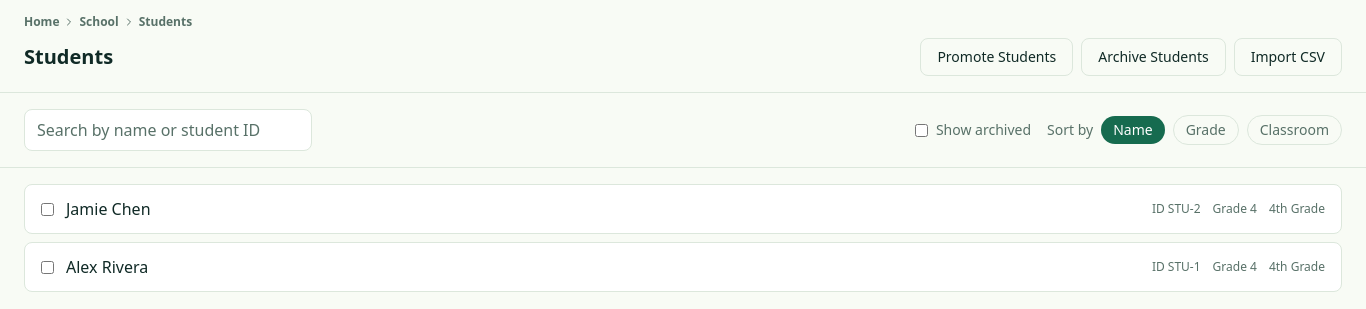
Test: StudentsPage › filters by search term
Type "Jamie" into the field with placeholder "Search by name or student ID".
click(168, 130); type("Jamie")  # box x1=24 y1=109 x2=312 y2=151
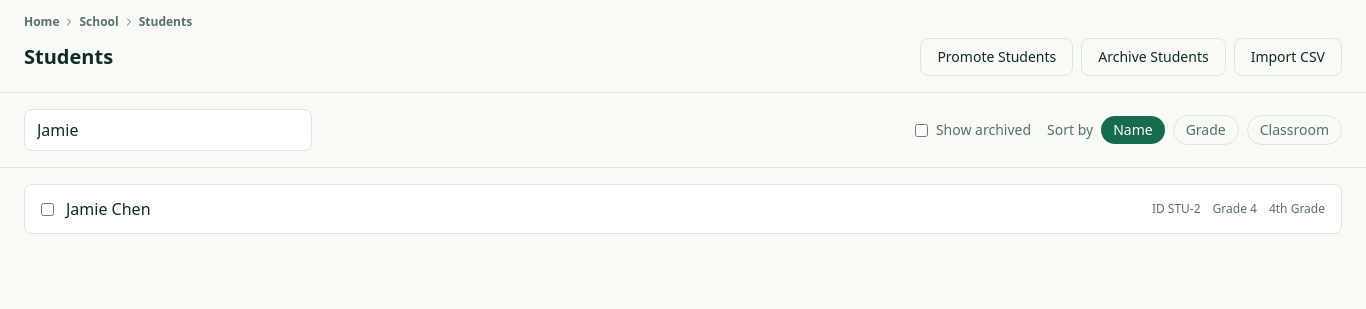
Expected: the text "Jamie Chen" is shown, x1=66 y1=197 x2=150 y2=221
Expected: the button "Alex Rivera" is gone
